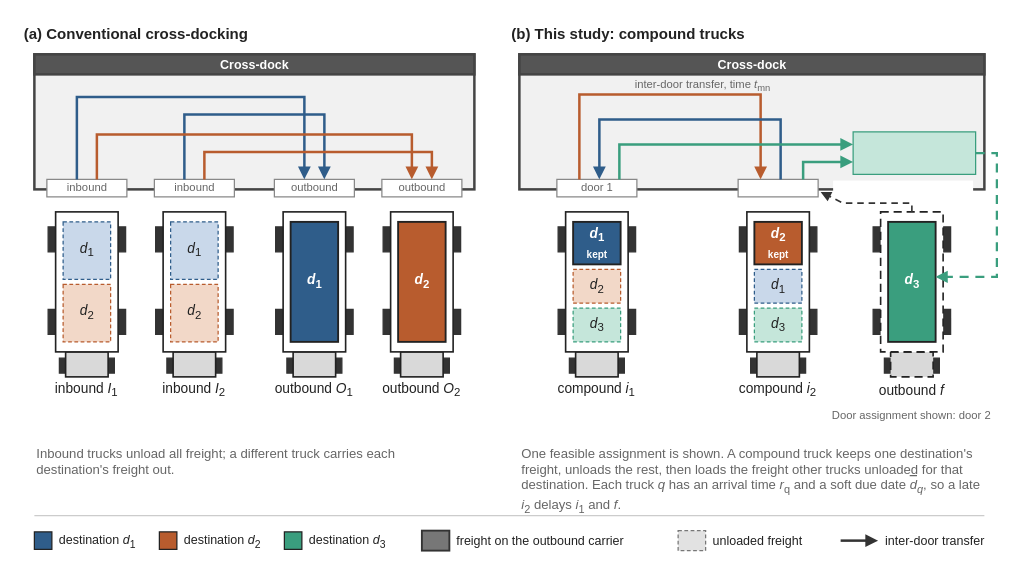
This 1033x574 diagram has some shape labels left out. Here are the shapes that lost their labels. From the top down, the box of each, then its label:
(852, 131, 976, 174): d 3 freight waits for f
(737, 178, 818, 197): door 2
(832, 180, 972, 196): f docks after i 2 leaves
(951, 285, 1011, 318): loaded later
